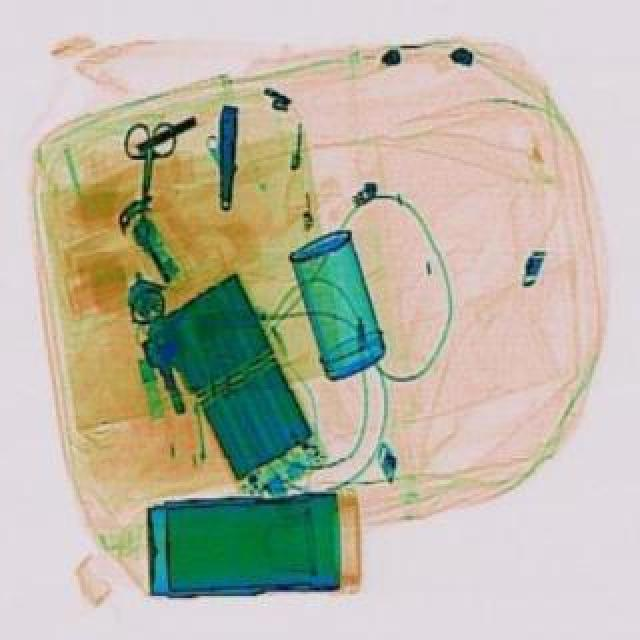pliers: (116, 118, 174, 210)
